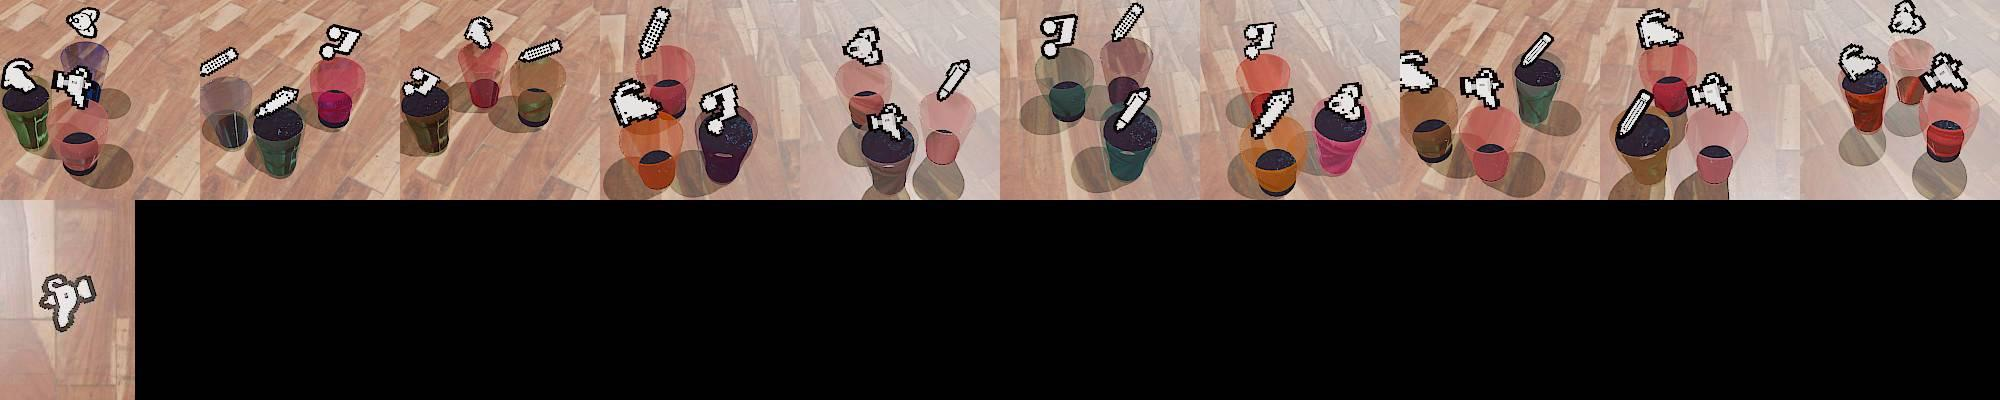icon: (38, 272, 98, 332), (609, 76, 662, 126), (1252, 85, 1295, 139), (1687, 71, 1735, 118), (700, 82, 740, 136), (51, 66, 100, 110), (1920, 52, 1969, 94), (1460, 65, 1505, 110), (1635, 9, 1683, 51), (637, 6, 672, 61), (1400, 48, 1440, 94), (1039, 14, 1078, 60), (1113, 86, 1151, 132), (1617, 88, 1653, 136), (317, 23, 363, 60), (842, 25, 883, 66), (935, 58, 972, 103), (253, 85, 300, 120), (1326, 80, 1366, 121), (1838, 43, 1881, 81), (870, 101, 908, 141), (1243, 19, 1279, 61), (1109, 2, 1145, 42), (402, 66, 444, 100), (1, 57, 38, 95), (199, 45, 240, 78), (1888, 0, 1926, 35), (1520, 31, 1554, 68), (518, 37, 564, 64), (66, 7, 100, 39), (463, 15, 494, 50)
